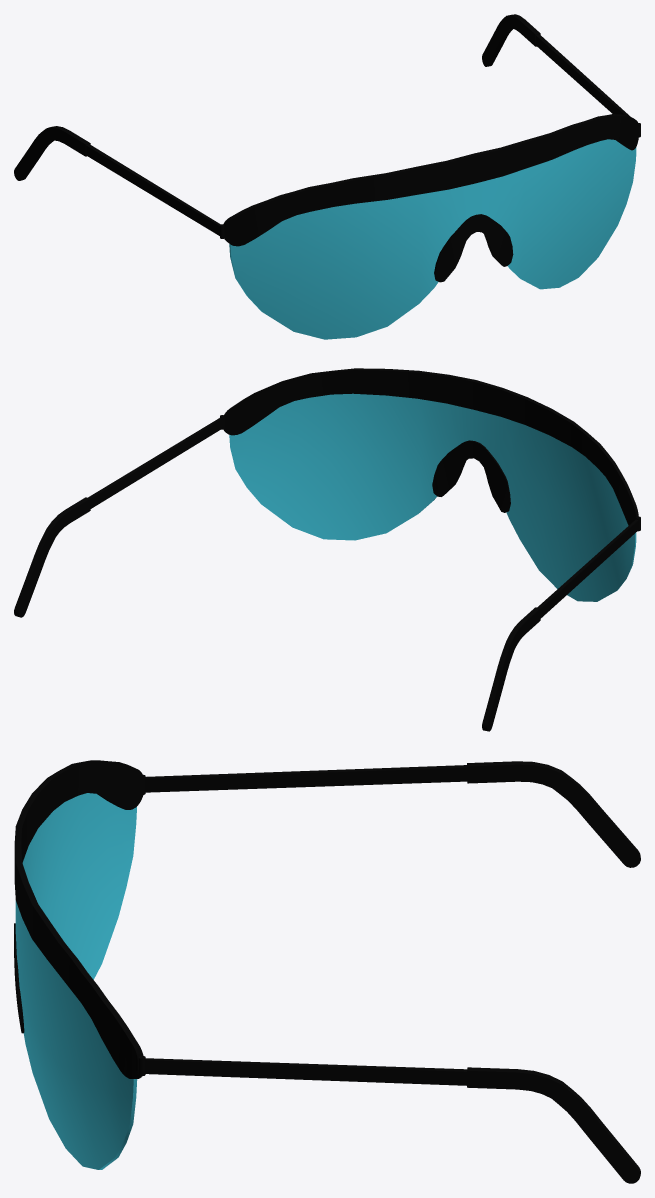
The model's file is Glasses-1TJPsi4VIT.glb.
3 views of the same model, one above another, from view 1: azimuth 30°, elevation 25°; view 2: azimuth 150°, elevation 25°; view 3: azimuth 270°, elevation 25° (orthographic). The views are drawn at different scales.
Parts seen in each view (by area): view 1: Glasses-1TJPsi4VIT; view 2: Glasses-1TJPsi4VIT; view 3: Glasses-1TJPsi4VIT.
Part boxes in pixels (<box>): Glasses-1TJPsi4VIT: <box>14,14,640,339</box>; Glasses-1TJPsi4VIT: <box>14,368,640,731</box>; Glasses-1TJPsi4VIT: <box>14,760,640,1183</box>.
Bounding box in the file's own units: 2.11 × 0.7317 × 1.75.
